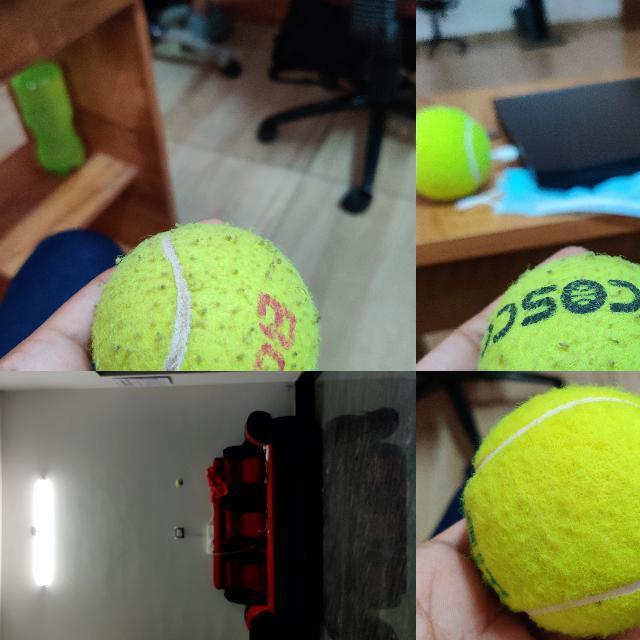tennis-ball: (464, 387, 639, 636), (89, 222, 320, 370), (478, 255, 639, 370), (416, 106, 491, 199), (175, 479, 183, 487)
